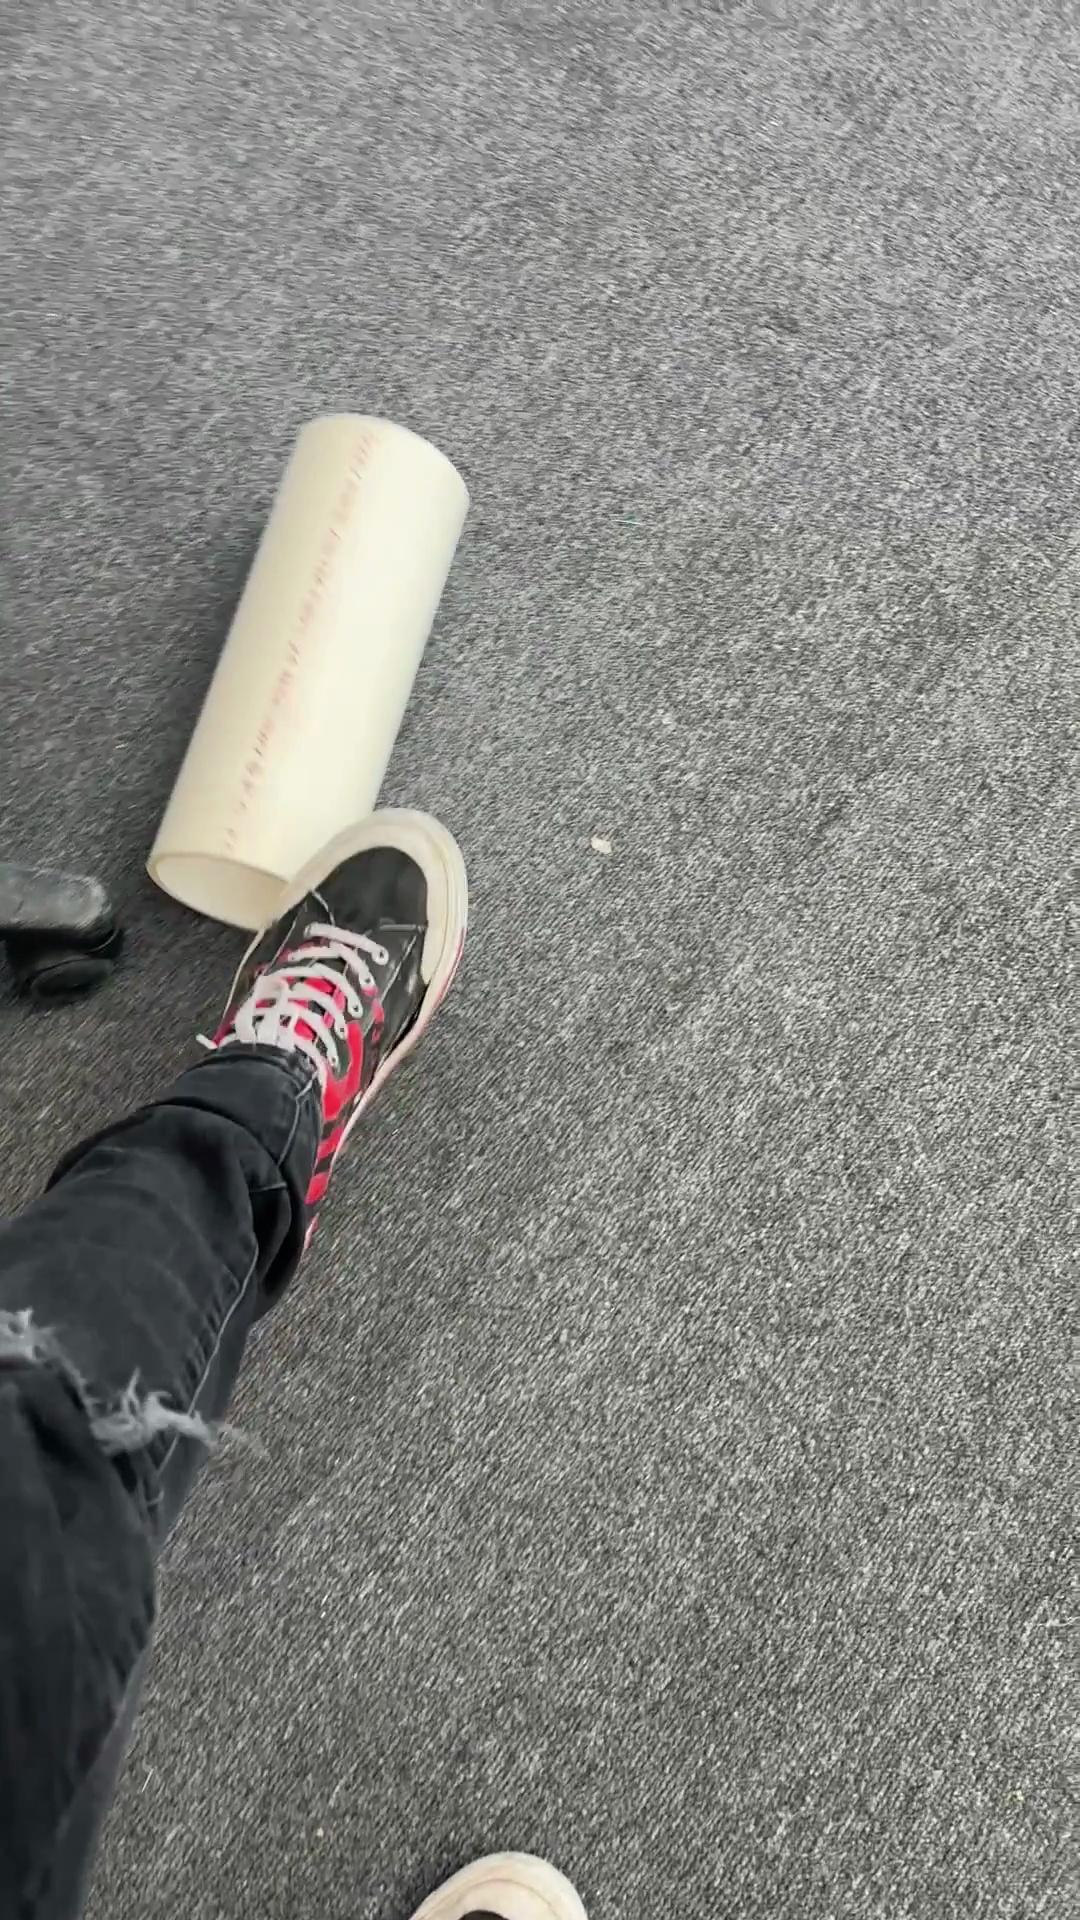CORAL: (142, 407, 471, 934)
